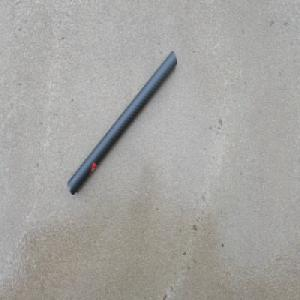LuggagePart: (66, 48, 177, 197)
